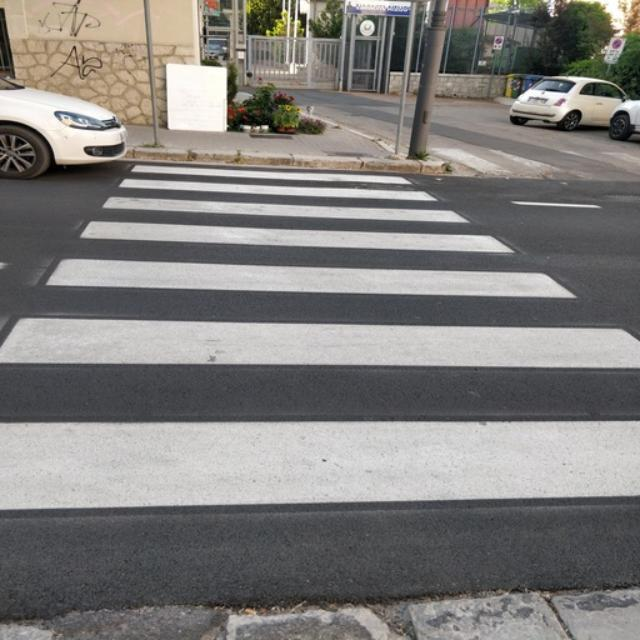sidewalk: (4, 164, 636, 518)
